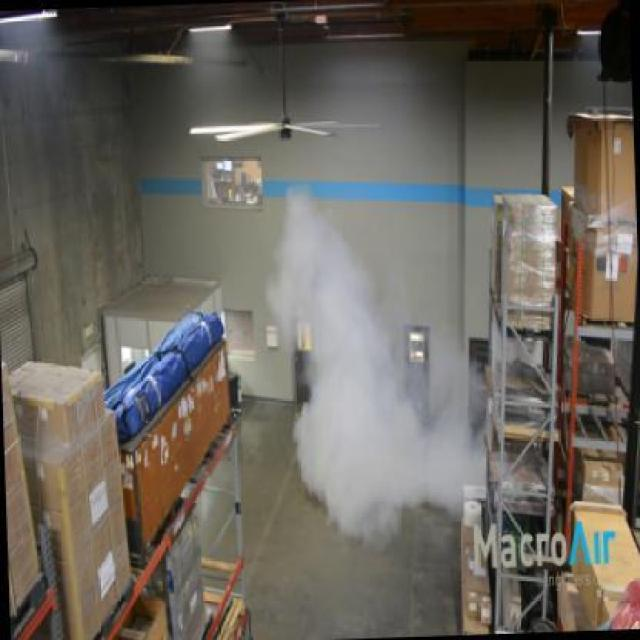fire: (264, 163, 460, 551)
